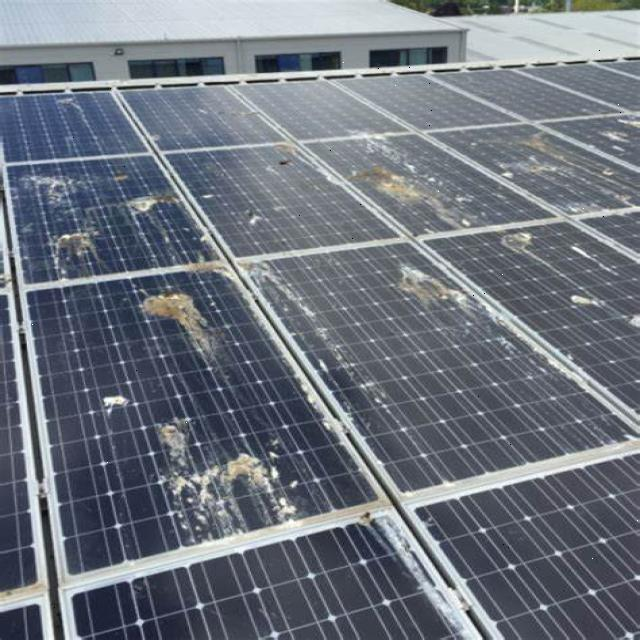Anomaly Solar Panel: (196, 168, 634, 583), (3, 223, 376, 576), (70, 512, 479, 638), (417, 217, 639, 426), (414, 452, 639, 639), (164, 124, 396, 261), (5, 142, 218, 283), (297, 132, 559, 233), (334, 40, 517, 163), (434, 46, 622, 147), (118, 72, 285, 156), (233, 67, 406, 144), (0, 85, 145, 160)
Surface Contaminant: (235, 238, 393, 413), (140, 388, 300, 557), (495, 122, 639, 233), (135, 268, 238, 371), (347, 151, 476, 233), (17, 168, 127, 214), (390, 260, 477, 318), (44, 214, 105, 271), (122, 179, 182, 220), (493, 220, 538, 262), (566, 290, 605, 312), (100, 390, 131, 405)
